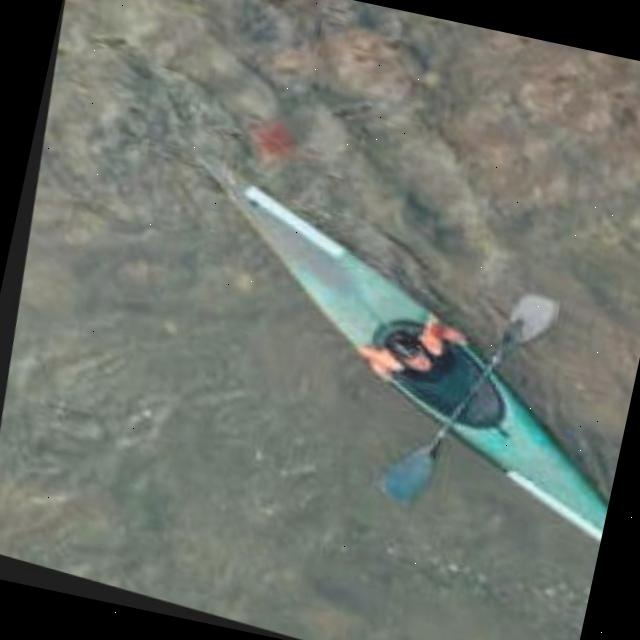kayak: (194, 164, 605, 546)
